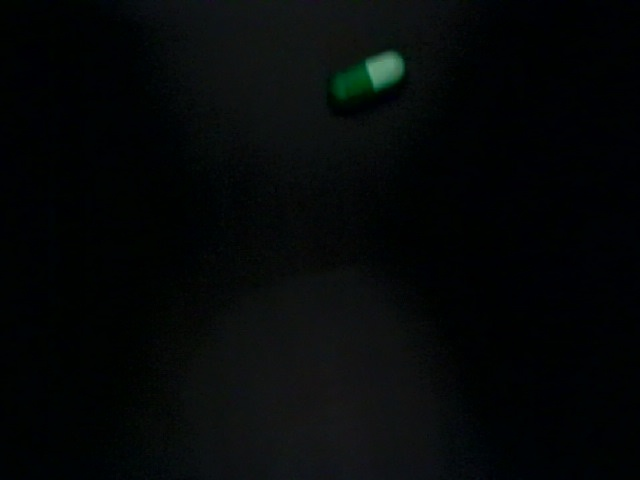YHLJ: (149, 145, 419, 244)
